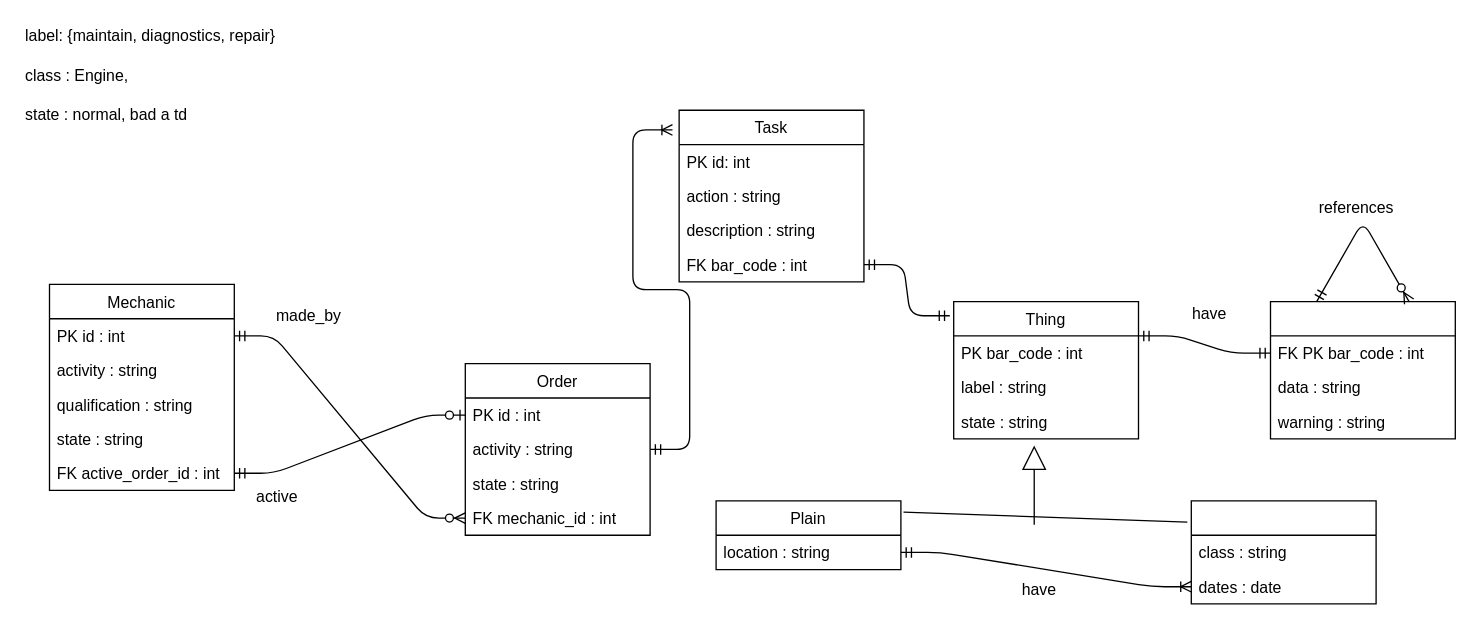
This 1478x630 diagram has some shape labels left out. The shapes that lost their labels are listed below. From the top down, each one's box as (x1, y1, x2, y2) in pixels, then its label:
(1269, 300, 1455, 439): Manual
(1190, 500, 1376, 604): Component
